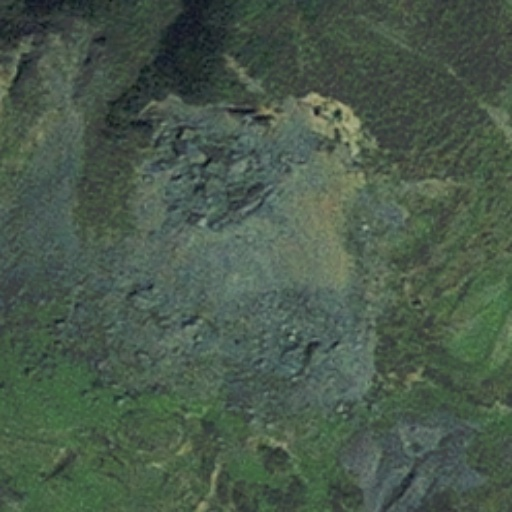landslide: (178, 94, 362, 298)
